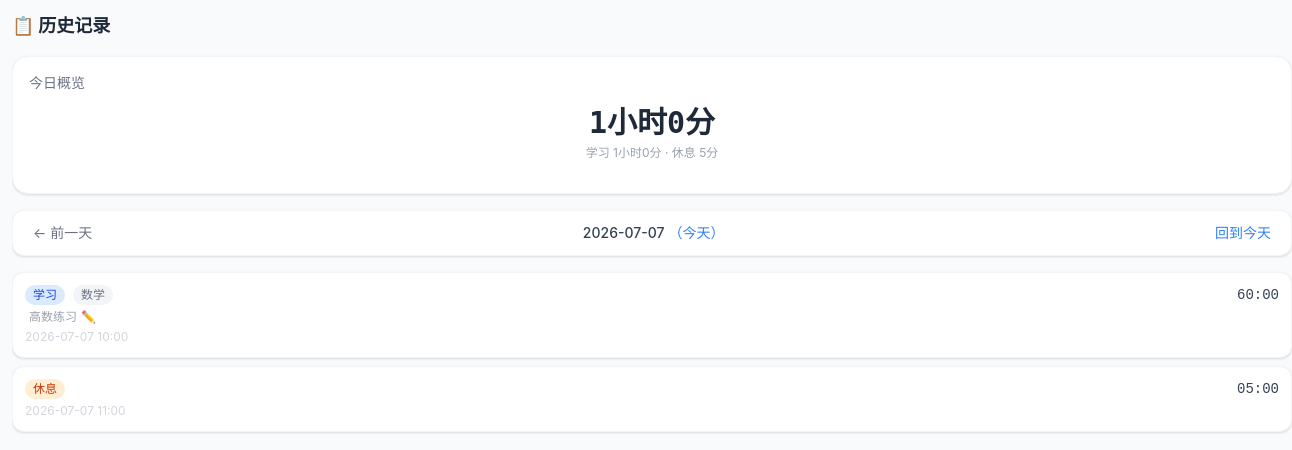
Test: HistoryPage › 点击 ← 前一天 切换到前一天
This screenshot has width=1292, height=450.
Expected: the text "2026-07-07" is shown, top-left (583, 224), bottom-right (664, 241)
Click the button "← 前一天".
click(63, 233)  # box top-left (21, 219), bottom-right (104, 247)
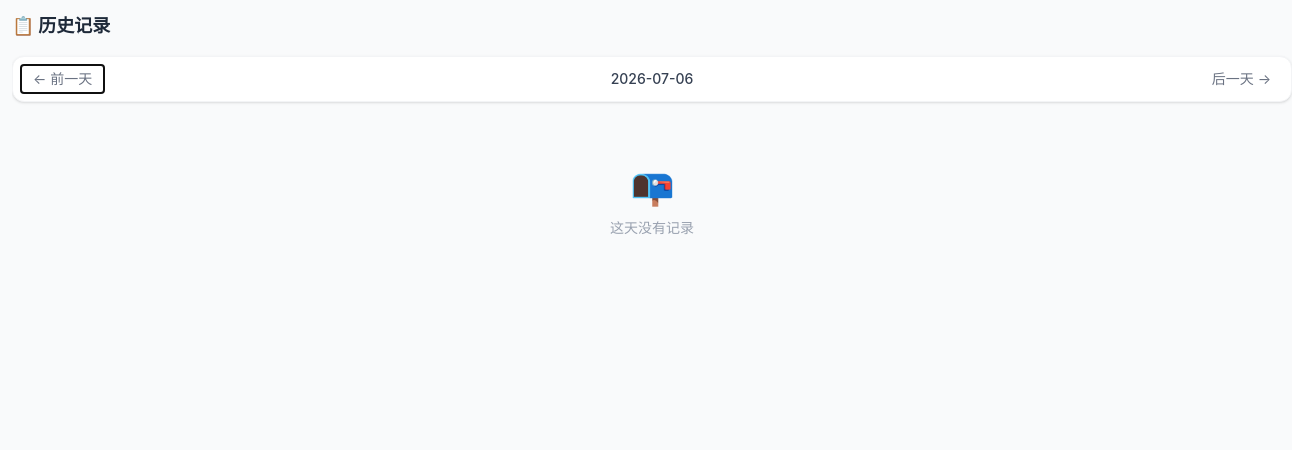
Expected: the text "2026-07-06" is shown, top-left (611, 69), bottom-right (693, 89)
